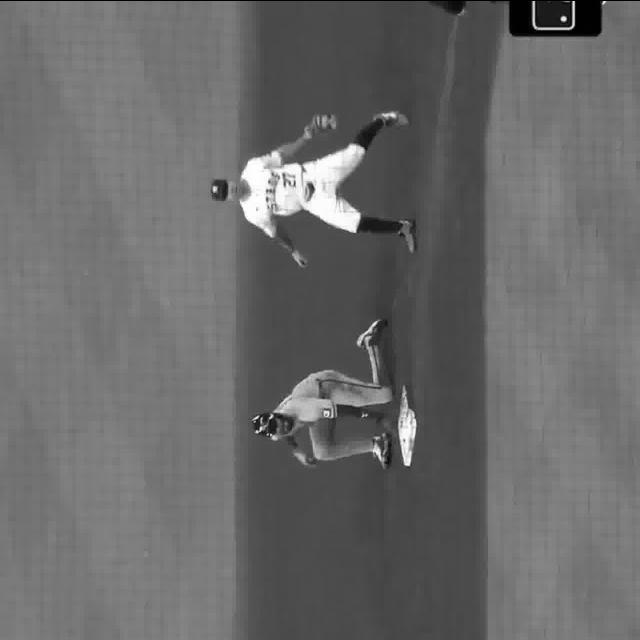base: (398, 382, 417, 467)
baseball_glove: (307, 112, 335, 140)
shoe: (356, 312, 389, 344), (371, 430, 393, 470), (372, 110, 414, 128), (402, 218, 419, 255)
